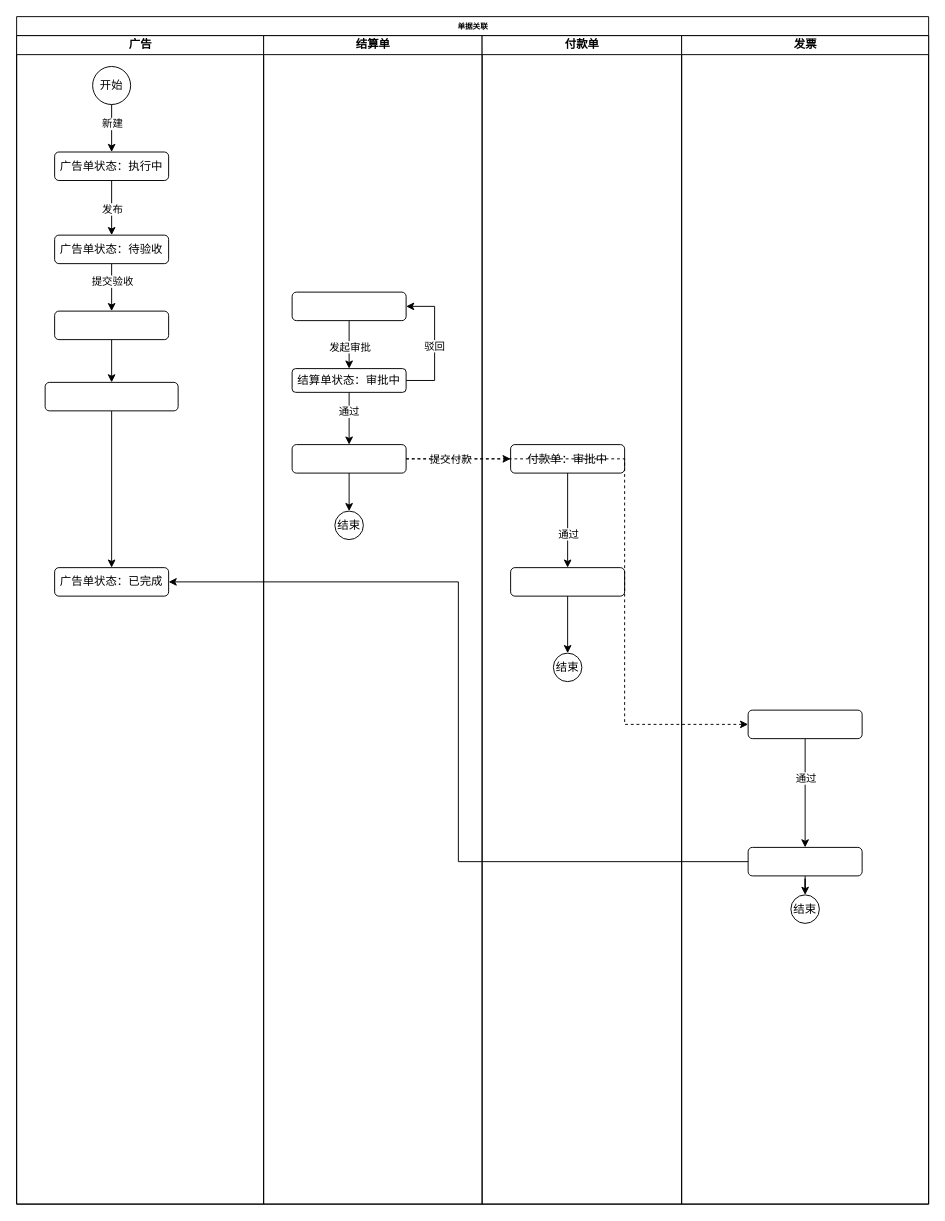
The diagram is 945 pixels wide and 1221 high, and some of its shapes have lost their labels. The shapes that lost their labels are listed below. From the top down, each one's centre as x and y in pixels, then its label:
At [111,325]: "广告单状态：验收中".
At [348,306]: "结算单状态：草稿".
At [111,396]: "广告单状态：验收完成".
At [348,458]: "结算单状态：已完成".
At [567,581]: "付款单：已完成".
At [804,724]: "发票：审批中".
At [804,861]: "发票：已完成".
